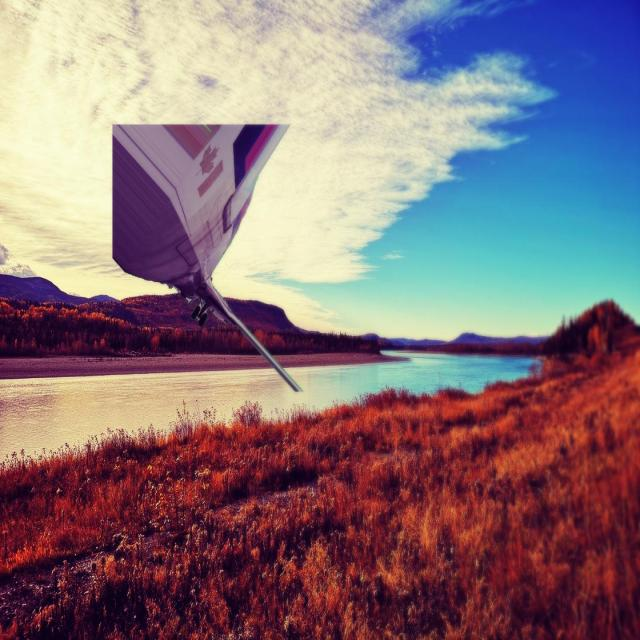airplane: (112, 121, 303, 392)
